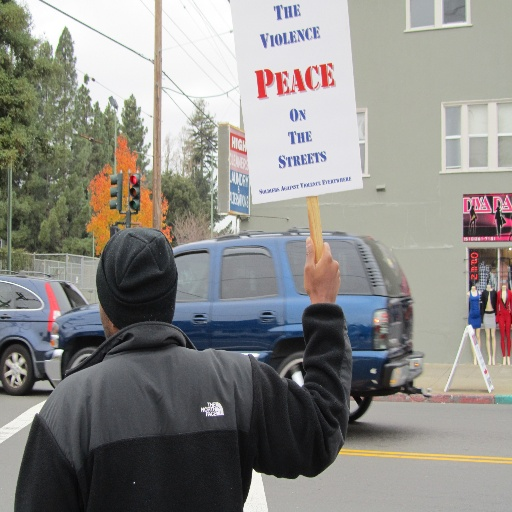hand: (307, 240, 345, 321)
